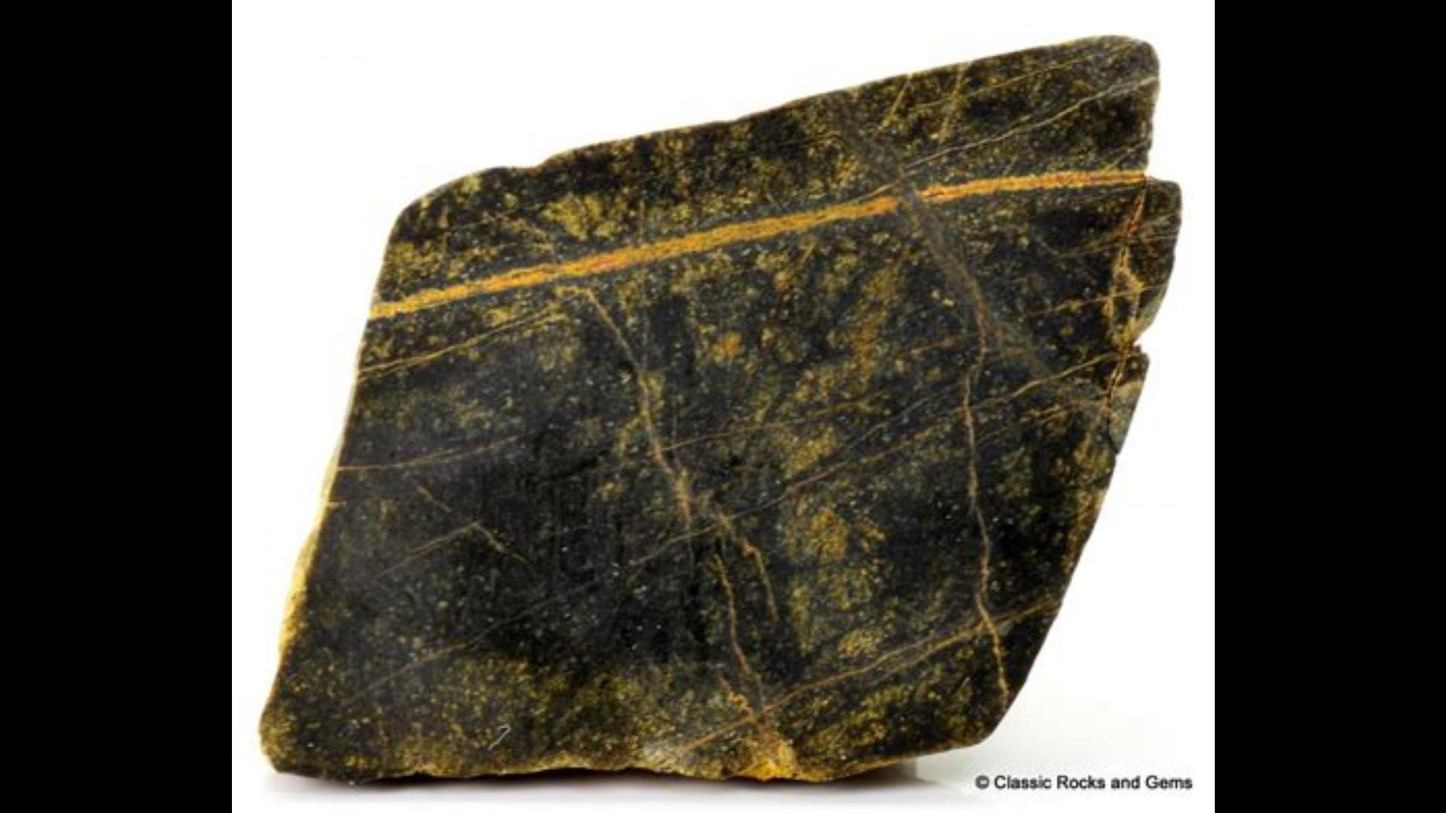rock: (262, 50, 1177, 776)
